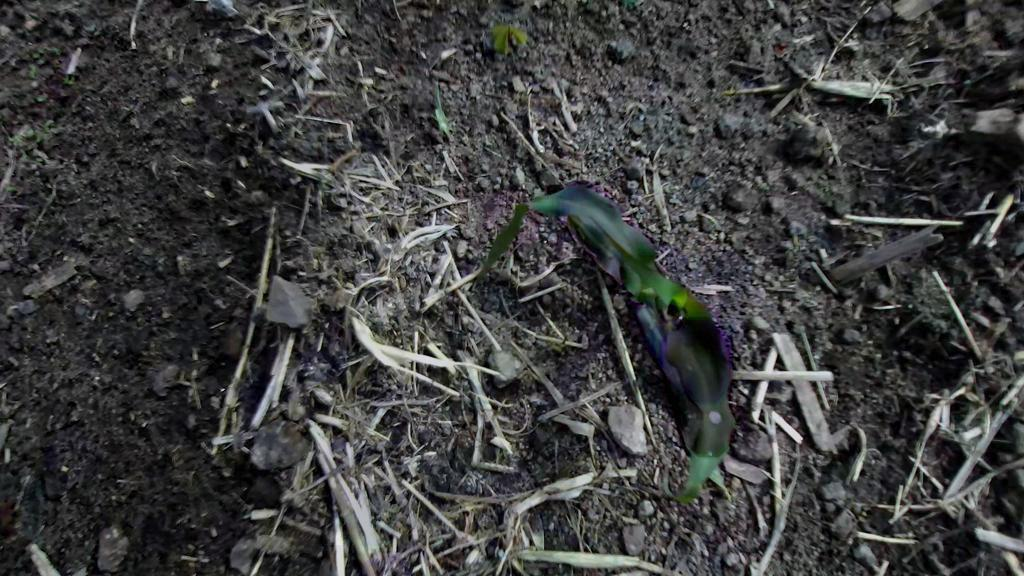BroWeed: (484, 13, 532, 60), (0, 497, 21, 535), (38, 115, 56, 133), (46, 42, 62, 58), (34, 92, 46, 104), (35, 56, 48, 67), (29, 64, 36, 79), (7, 135, 22, 142), (19, 148, 27, 160), (66, 76, 76, 85), (30, 50, 40, 59), (6, 185, 16, 192), (63, 74, 69, 85)
Maize: (458, 154, 807, 533)
NarWeed: (418, 82, 464, 144)
